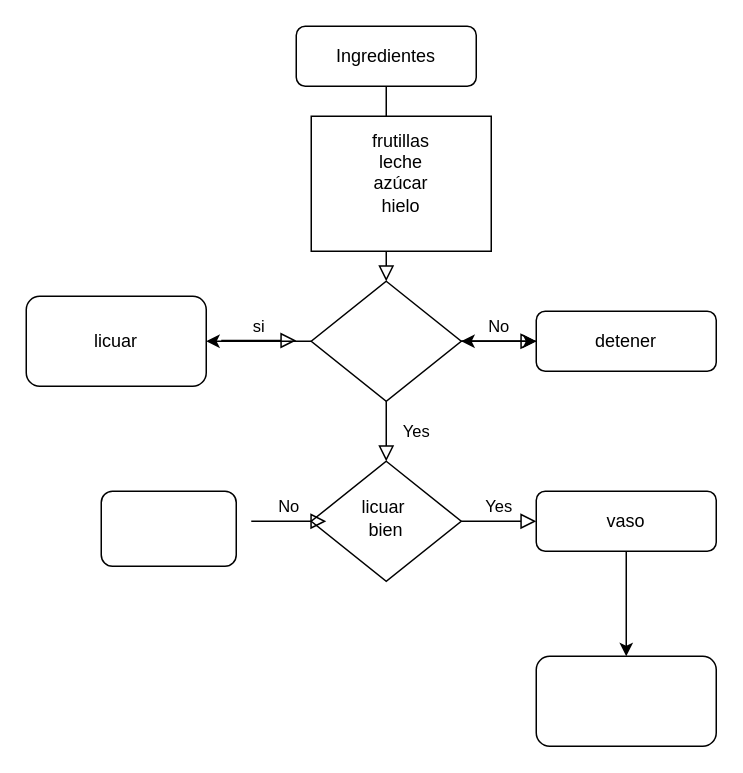
The diagram is 743 pixels wide and 773 high, and some of its shapes have lost their labels. The centre of each missing label's shape, as x and y in pixels:
fin: point 625,700
ingredientes listos ?: point 385,340
no servir: point 168,528
